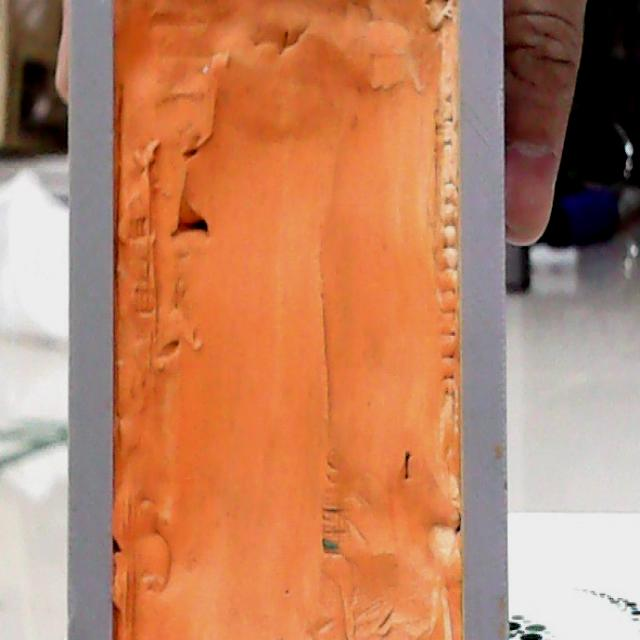block: (64, 0, 511, 639)
